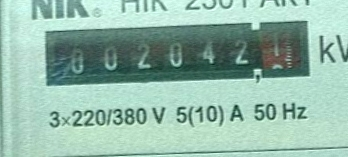0: (166, 36, 186, 67), (101, 40, 120, 72), (68, 42, 87, 73)
1: (268, 26, 284, 58)
2: (134, 39, 154, 69), (232, 34, 251, 64)
4: (199, 33, 219, 65)
screen: (39, 10, 317, 97)
